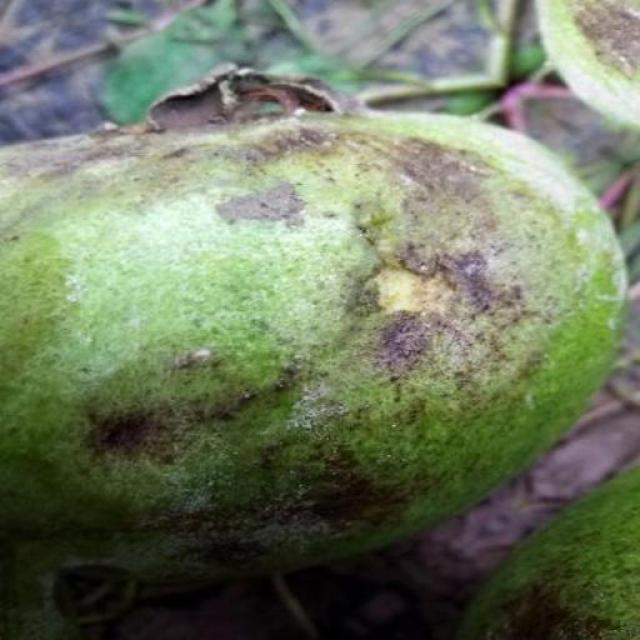Phytopthora: (0, 114, 625, 639), (456, 466, 640, 639)
